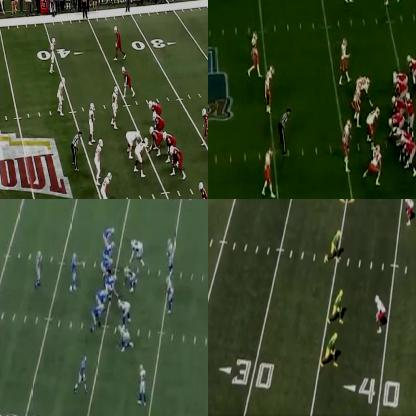CENTER: (387, 111, 405, 140), (148, 125, 161, 151), (106, 275, 119, 295)
DB: (262, 148, 275, 195), (264, 63, 274, 111), (374, 295, 386, 333), (137, 363, 147, 406), (57, 77, 67, 117), (251, 31, 260, 74), (102, 172, 115, 198), (49, 38, 56, 74)
LB: (92, 139, 105, 180), (342, 121, 353, 169), (340, 39, 350, 84), (354, 85, 364, 125), (164, 276, 174, 314), (86, 103, 95, 141), (166, 238, 176, 272), (404, 199, 415, 226)
QB: (69, 252, 79, 290), (405, 93, 415, 130), (201, 107, 207, 150)
SKILL: (121, 68, 135, 98), (330, 228, 341, 264), (76, 355, 86, 393), (333, 286, 343, 320), (327, 333, 337, 366), (114, 27, 124, 58), (407, 54, 415, 86), (102, 224, 115, 242), (393, 69, 407, 84), (36, 251, 42, 284), (198, 182, 207, 198)
